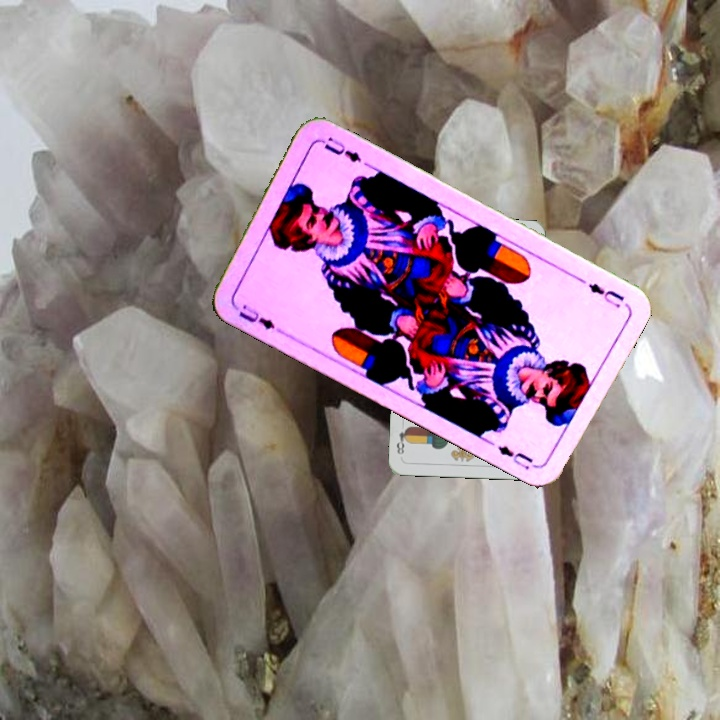EU: (229, 300, 284, 336), (584, 279, 627, 311)
